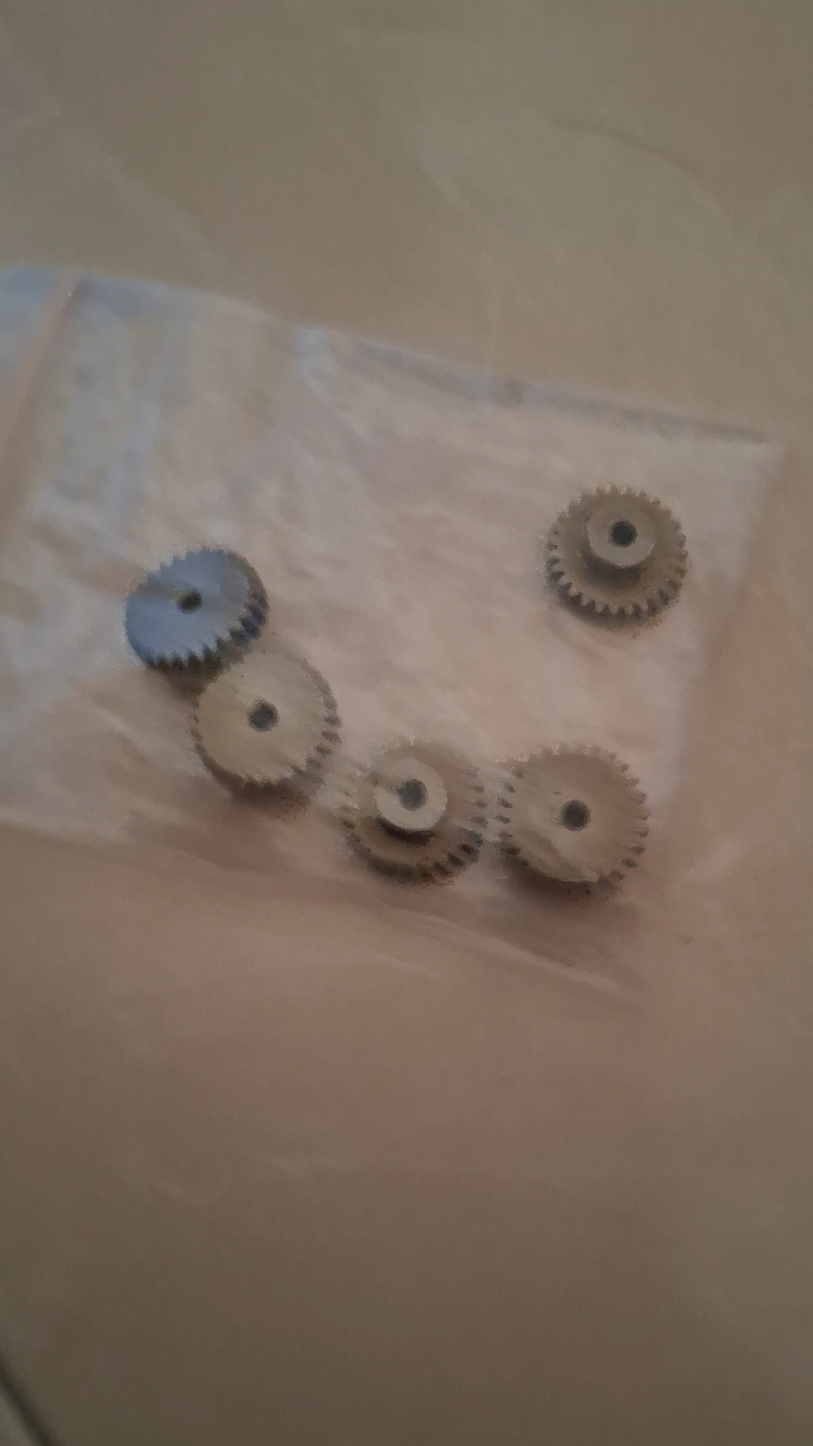spur gear: (497, 744, 648, 883), (193, 650, 339, 789), (340, 743, 485, 880), (545, 487, 687, 618), (126, 548, 266, 669)
